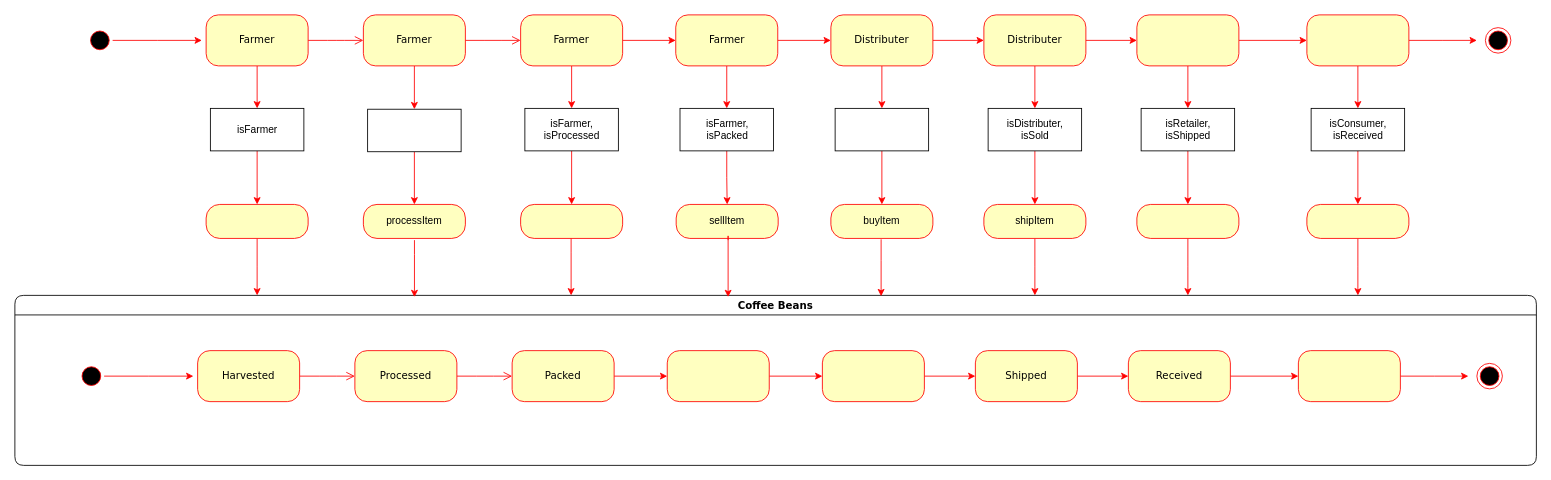
Image size: 1551x480. Some labels were removed from this diagram. Each missing label, with the centre of its shape:
Consumer: (1357,40)
For Sale: (717,376)
harvestItem: (256,221)
isDistributer, isForSale: (881,129)
isFarmer, isHarvested: (414,130)
packItem: (571,221)
Purchased: (1349,376)
purchaseItem: (1357,221)
receiveItem: (1187,221)
Retailer: (1187,40)
Sold: (873,376)
